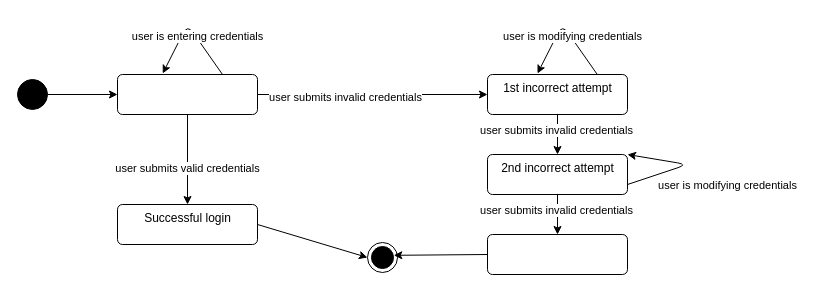
Some shapes in this 815 by 292 pixel diagram are drawn without their labels. Each missing label, with the box of its shape:
Close application: (486, 234, 628, 274)
Wait: (116, 74, 258, 114)
